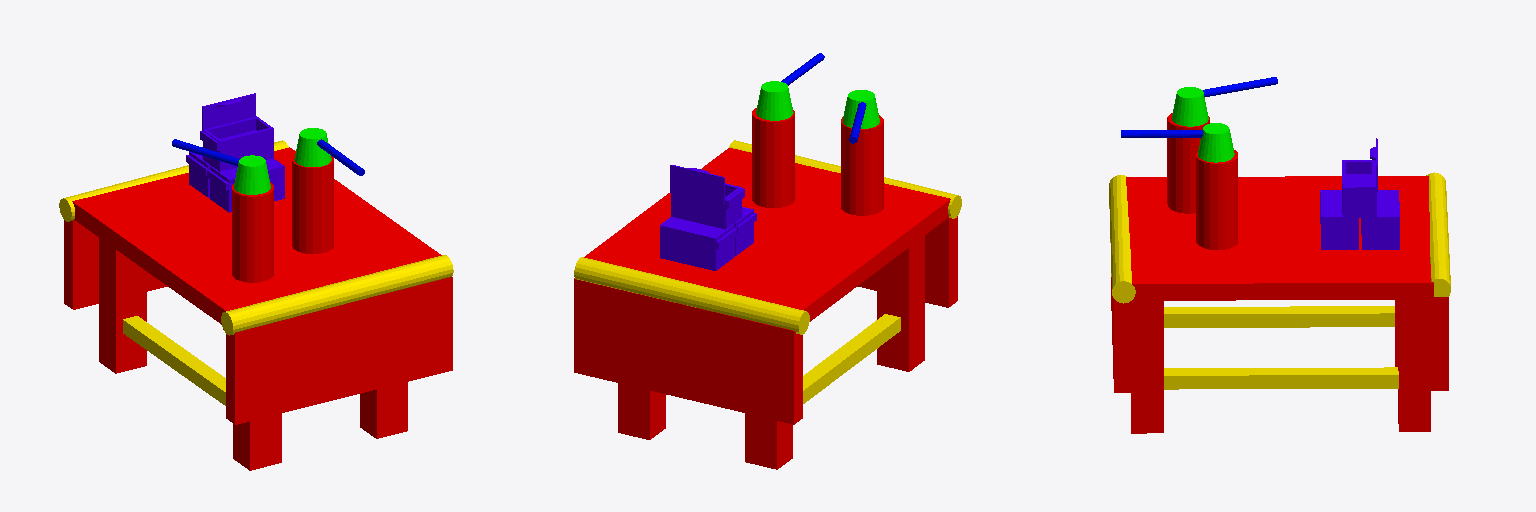
Rendered from Workbench.obj.
The picture shows the model from 3 angles: view 1: azimuth 30°, elevation 25°; view 2: azimuth 150°, elevation 25°; view 3: azimuth 270°, elevation 25°; orthographic projection.
Visible parts, largest first — view 1: Box100, Box108, Cylinder029, Box103, Box120, Cylinder034, Cylinder033, Box107, Box105, Box102, Box101, Box119 (+5 smaller); view 2: Box100, Box107, Cylinder030, Box102, Cylinder033, Cylinder034, Box120, Box118, Box108, Box105, Box104, Box103 (+4 smaller); view 3: Box100, Box106, Box105, Box104, Box101, Cylinder033, Cylinder029, Cylinder034, Cylinder030, Box120, Box108, Box118 (+6 smaller).
Part boxes in pixels (bbox=[...]): Box100: bbox=[72, 147, 441, 324]; Box108: bbox=[226, 277, 452, 424]; Cylinder029: bbox=[221, 255, 453, 335]; Box103: bbox=[99, 238, 146, 373]; Box120: bbox=[200, 93, 273, 171]; Cylinder034: bbox=[232, 182, 273, 282]; Cylinder033: bbox=[292, 155, 333, 253]; Box107: bbox=[64, 220, 167, 309]; Box105: bbox=[123, 316, 225, 405]; Box102: bbox=[233, 413, 281, 470]; Box101: bbox=[360, 382, 407, 438]; Box119: bbox=[207, 158, 284, 212]; Box100: bbox=[584, 148, 950, 321]; Box107: bbox=[574, 278, 802, 424]; Cylinder030: bbox=[574, 257, 809, 334]; Box102: bbox=[877, 236, 924, 371]; Cylinder033: bbox=[752, 108, 794, 207]; Cylinder034: bbox=[841, 115, 883, 215]; Box120: bbox=[670, 165, 744, 229]; Box118: bbox=[660, 217, 736, 270]; Box108: bbox=[857, 216, 957, 307]; Box105: bbox=[803, 314, 900, 403]; Box104: bbox=[618, 383, 665, 439]; Box103: bbox=[745, 413, 792, 469]; Box100: bbox=[1126, 176, 1433, 300]; Box106: bbox=[1164, 367, 1398, 389]; Box105: bbox=[1164, 306, 1394, 327]; Box104: bbox=[1398, 299, 1430, 431]; Box101: bbox=[1131, 301, 1163, 433]; Cylinder033: bbox=[1196, 150, 1237, 249]; Cylinder029: bbox=[1109, 175, 1135, 303]; Cylinder034: bbox=[1167, 113, 1209, 213]; Cylinder030: bbox=[1426, 172, 1450, 296]; Box120: bbox=[1342, 138, 1377, 217]; Box108: bbox=[1111, 277, 1132, 392]; Box118: bbox=[1361, 190, 1399, 249].
Bounding box in the file's own units: 56.67 × 66.52 × 73.89.